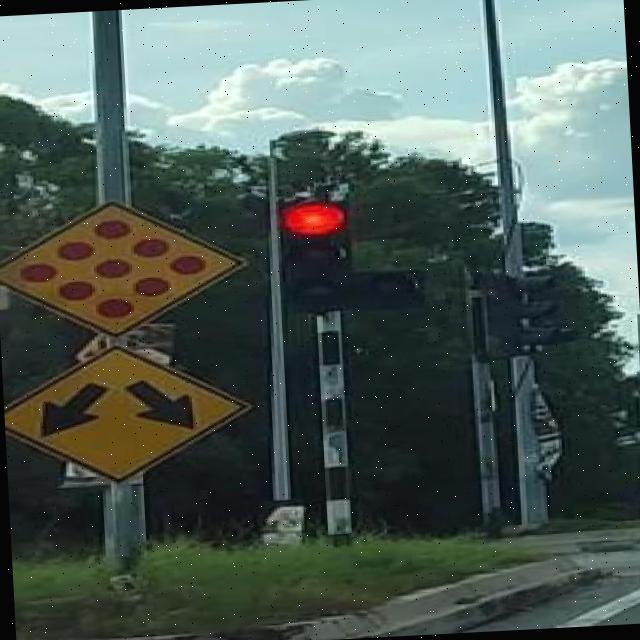red_light: (275, 195, 355, 312)
